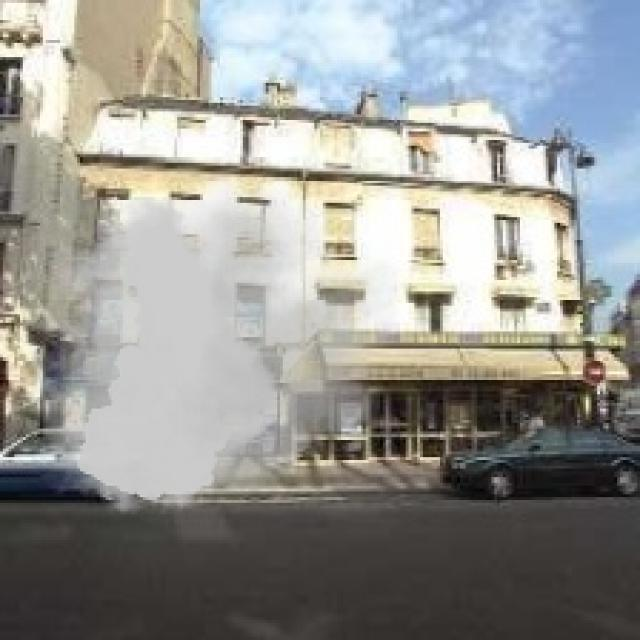Smoke: (8, 174, 423, 523)
